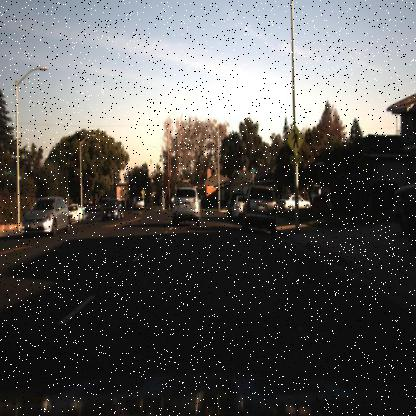car: (21, 196, 69, 240), (242, 182, 280, 235), (171, 186, 202, 226), (97, 189, 125, 225), (275, 191, 312, 212), (100, 200, 126, 220), (67, 204, 87, 223), (233, 190, 243, 228), (68, 202, 86, 223), (133, 195, 144, 211)
